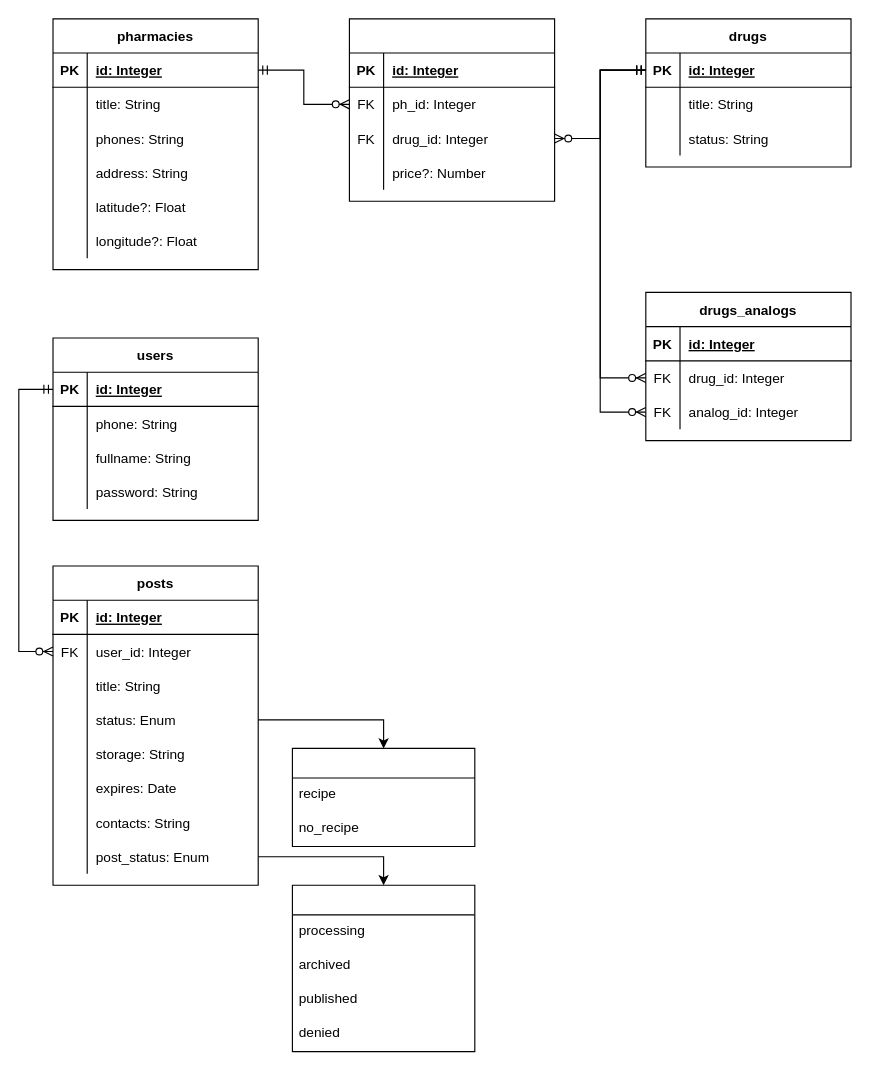
Image size: 870x1070. Some labels were removed from this diagram. The box of each missing label's shape, as (x1, y1, x2, y2) in pixels:
drugs_to_ph: (348, 18, 555, 201)
post_statuses: (291, 884, 475, 1052)
statuses: (291, 747, 475, 846)
